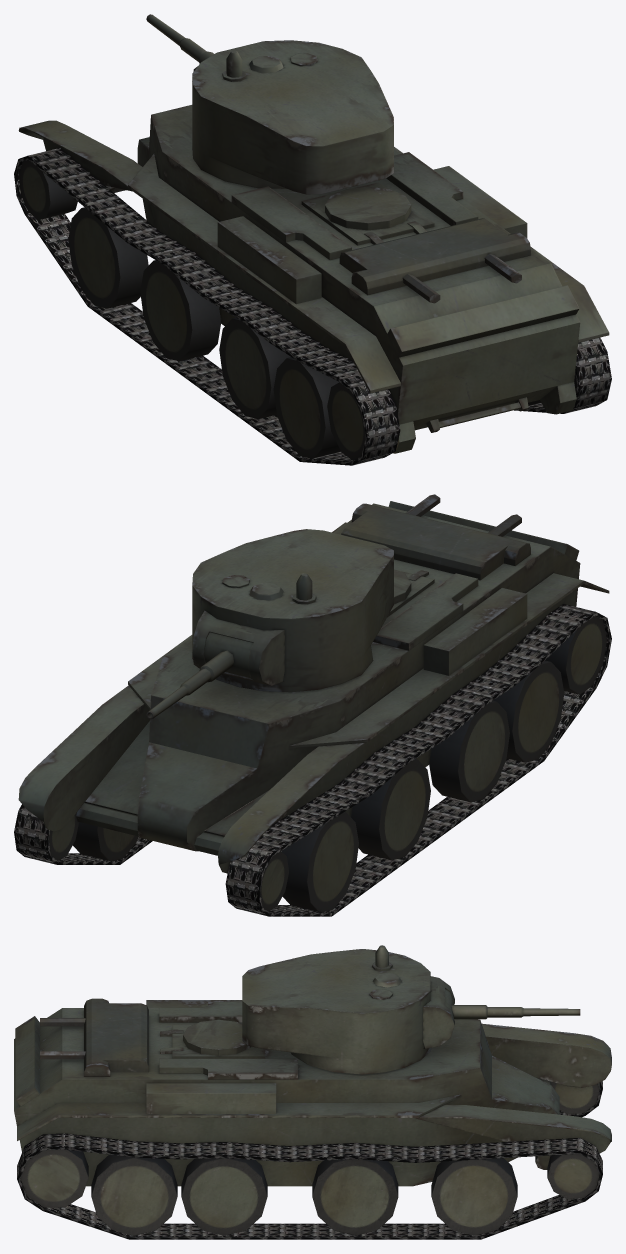
3 renders of one model, top to bottom at view 1: azimuth 30°, elevation 25°; view 2: azimuth 150°, elevation 25°; view 3: azimuth 270°, elevation 25°, orthographic. The views are drawn at different scales.
Parts seen in each view (by area): view 1: BT-7 Hull, BT-7 Turret, BT-7 Track, BT-7 Barrel; view 2: BT-7 Hull, BT-7 Turret, BT-7 Track, BT-7 Barrel; view 3: BT-7 Hull, BT-7 Turret, BT-7 Track, BT-7 Barrel.
Boxes of the visible parts, x1,y1,x2,y2 form: BT-7 Hull: [18, 105, 609, 460]; BT-7 Turret: [192, 40, 393, 194]; BT-7 Track: [14, 147, 611, 465]; BT-7 Barrel: [146, 14, 213, 63]; BT-7 Hull: [18, 494, 609, 912]; BT-7 Turret: [192, 529, 393, 692]; BT-7 Track: [14, 604, 611, 916]; BT-7 Barrel: [146, 632, 253, 719]; BT-7 Hull: [14, 998, 611, 1235]; BT-7 Turret: [242, 945, 454, 1074]; BT-7 Track: [17, 1081, 602, 1239]; BT-7 Barrel: [445, 989, 580, 1019].
Bounding box in the file's own units: 2.21 × 2.39 × 5.65.
